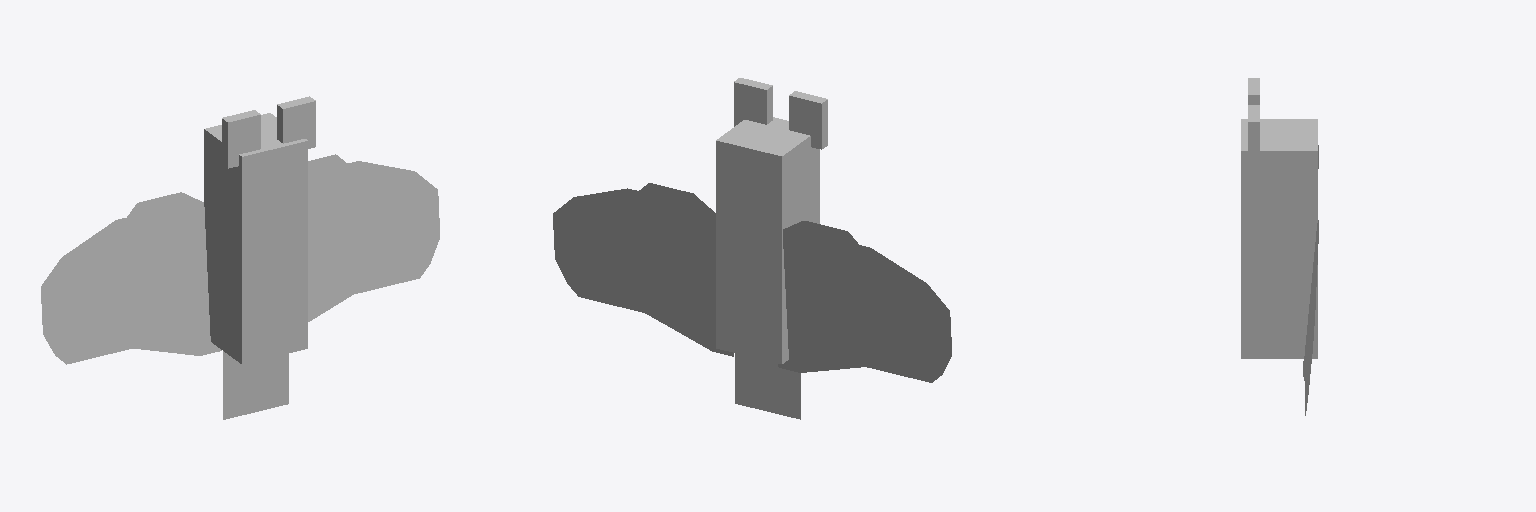
The model's file is Bat.obj.
The picture shows the model from 3 angles: view 1: azimuth 30°, elevation 25°; view 2: azimuth 150°, elevation 25°; view 3: azimuth 270°, elevation 25°; orthographic projection.
Parts seen in each view (by area): view 1: Body_bat; view 2: Body_bat; view 3: Body_bat.
Part boxes in pixels (x1,y1,x2,y2): Body_bat: (41,96,439,419); Body_bat: (553,78,951,419); Body_bat: (1241,78,1318,415).
Size of the model in its own units: 78.22 by 58.67 by 13.18.